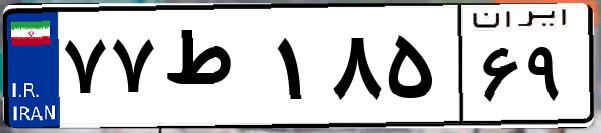1: (270, 28, 330, 110)
5: (385, 28, 445, 110)
6: (475, 38, 525, 113)
7: (57, 26, 110, 100), (110, 28, 158, 98)
8: (330, 28, 385, 110)
9: (525, 38, 570, 115)
ط: (158, 20, 270, 120)
